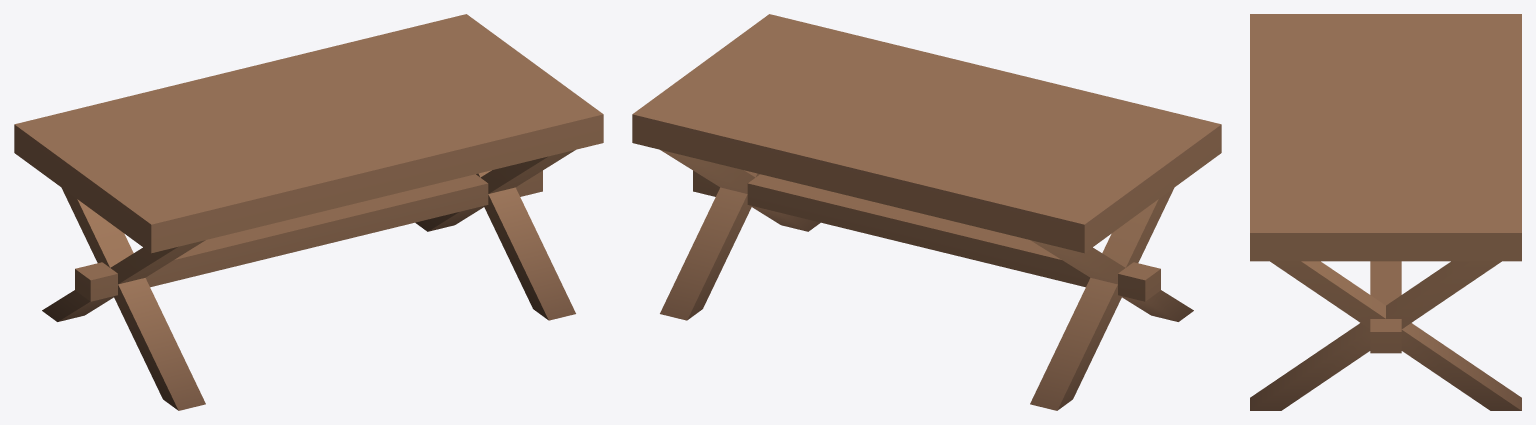
File: table-cross.glb
3 views of the same model, side by side, from view 1: azimuth 30°, elevation 25°; view 2: azimuth 150°, elevation 25°; view 3: azimuth 270°, elevation 25° (orthographic).
Parts seen in each view (by area): view 1: table-cross; view 2: table-cross; view 3: table-cross.
Part boxes in pixels (x1,y1,x2,y2): table-cross: (14, 14, 603, 410); table-cross: (632, 14, 1221, 410); table-cross: (1250, 14, 1521, 410).
Size of the model in its own units: 1.86 by 0.7601 by 0.9786.
